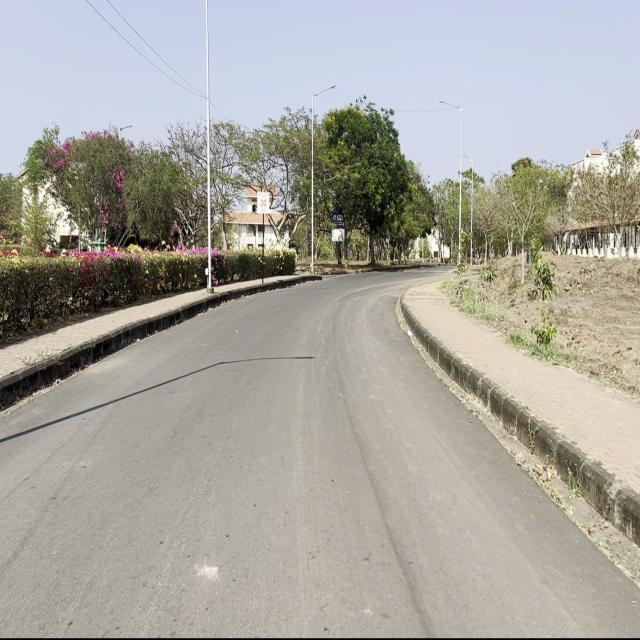Road: (3, 278, 639, 634)
